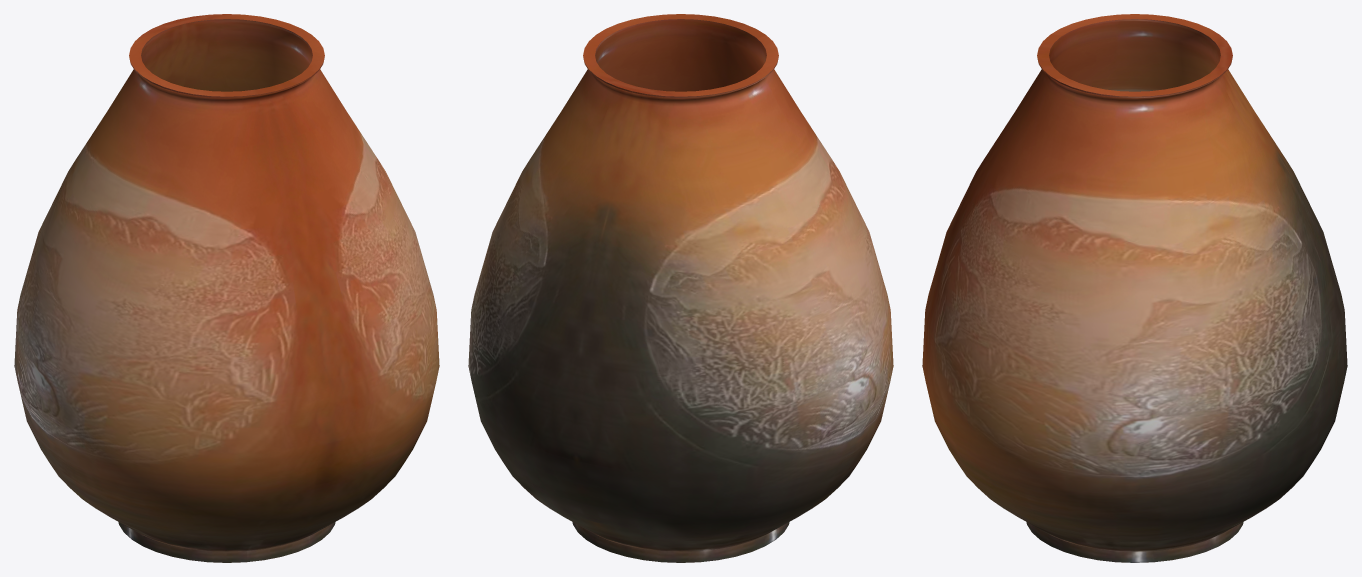
Rendered from CTYB01.FBX.
The picture shows the model from 3 angles, left to right: view 1: azimuth 30°, elevation 25°; view 2: azimuth 150°, elevation 25°; view 3: azimuth 270°, elevation 25°; orthographic projection.
Visible parts, largest first — view 1: CTYB01; view 2: CTYB01; view 3: CTYB01.
Part boxes in pixels (x1,y1,x2,y2): CTYB01: [14, 14, 439, 562]; CTYB01: [468, 14, 893, 562]; CTYB01: [922, 14, 1347, 562].
Bounding box in the file's own units: 22.13 × 26.49 × 22.13.
1 material, 1 textured.
